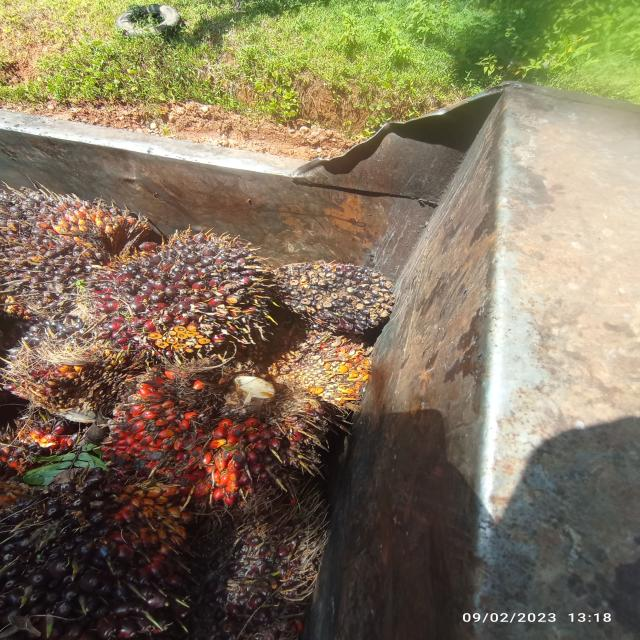fraksi 00: (0, 434, 207, 638), (267, 246, 401, 347), (218, 538, 323, 630)
fraksi 1: (78, 215, 268, 383)
fraksi 4: (120, 374, 319, 518)
